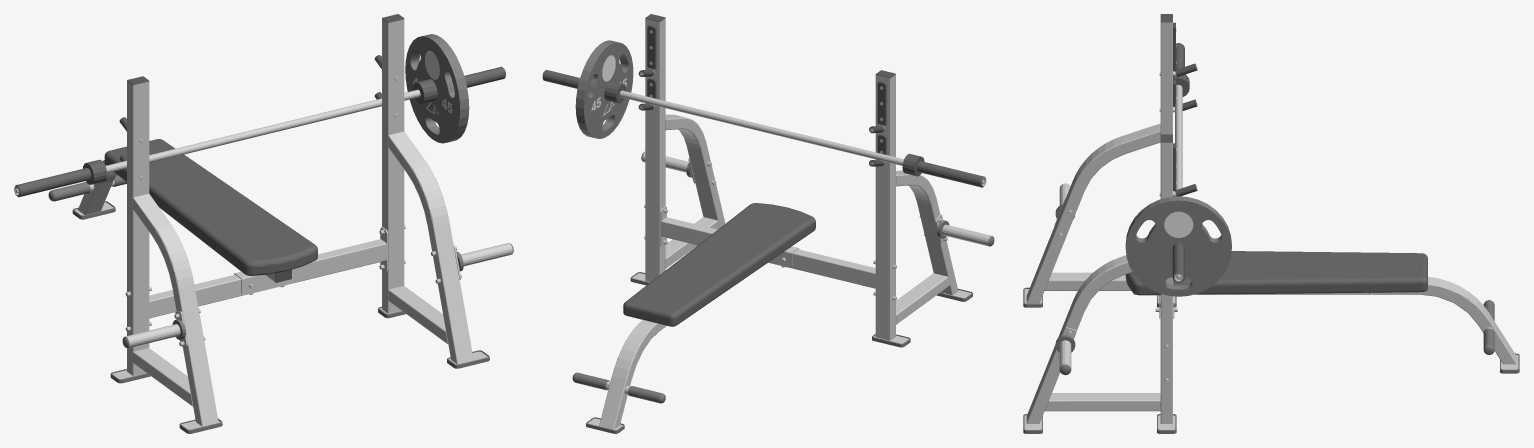
Rendered from bench4.glb.
The picture shows the model from 3 angles, left to right: view 1: azimuth 30°, elevation 25°; view 2: azimuth 150°, elevation 25°; view 3: azimuth 270°, elevation 25°; orthographic projection. The views are drawn at different scales.
Visible parts, largest first — view 1: Object001_19.001, Object010.001; view 2: Object001_19.001, Object010.001; view 3: Object001_19.001, Object010.001.
Boxes of the visible parts, x1,y1,x2,y2 form: Object001_19.001: [14, 14, 513, 433]; Object010.001: [14, 89, 512, 347]; Object001_19.001: [542, 14, 994, 433]; Object010.001: [619, 30, 991, 300]; Object001_19.001: [1023, 14, 1519, 433]; Object010.001: [1054, 28, 1373, 383].
Size of the model in its own units: 2.2 by 1.27 by 2.01.
2 materials, 2 textured.
